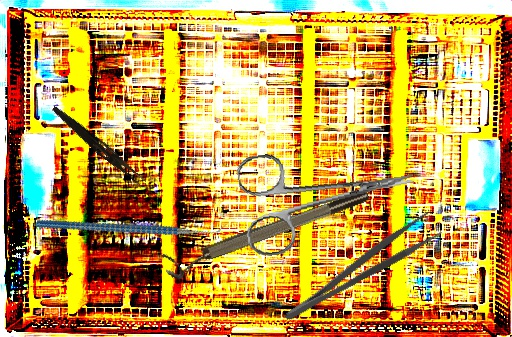Chopper: (35, 155, 228, 293)
Dressing Forceps: (273, 209, 445, 326), (48, 104, 149, 188)
Fixation Ring: (160, 185, 375, 283)
Iris Scissors: (235, 132, 422, 259)
